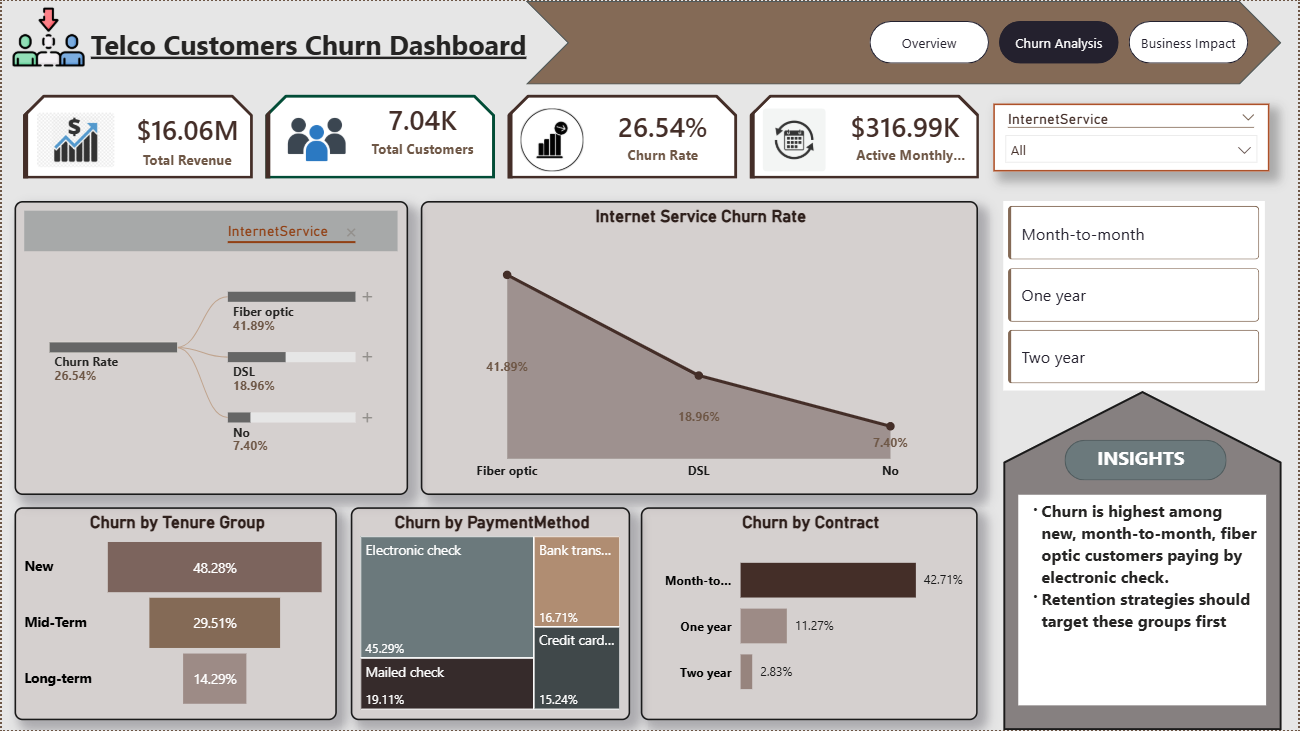

This screenshot's page, from the dashboard's own definition file:
{"tool":"powerbi","page":{"name":"Churn Analysis","canvas":[1280,720],"ordinal":1},"visuals":[{"type":"cardVisual","fields":{"Data":["fact_subscriptions.Total Revenue","fact_subscriptions.Total Customers","fact_subscriptions.Churn Rate","fact_subscriptions.Active Monthly Revenue"]},"box":[0,72.1,989.3,126],"z":0},{"type":"textbox","box":[82.5,20,460,52.5],"z":1000},{"type":"image","box":[0,0,91.2,71.2],"z":2000},{"type":"shape","box":[517.5,0,746.2,82.5],"z":3000},{"type":"stackedAreaChart","title":"Internet Service Churn Rate","fields":{"Y":["fact_subscriptions.Churn Rate"],"Category":["dim_services.InternetService"]},"box":[413.8,197.5,550,290],"z":4000},{"type":"barChart","title":"Churn by Contract","fields":{"Category":["dim_contract.Contract"],"Y":["fact_subscriptions.Churn Rate"]},"box":[631.2,500,332.5,210],"z":5000},{"type":"decompositionTreeVisual","title":"Customers Behaviour","fields":{"ExplainBy":["dim_services.InternetService","fact_subscriptions.Tenure Group","dim_contract.Contract"],"Analyze":["fact_subscriptions.Churn Rate"]},"box":[12.5,197.5,388.8,290],"z":6000},{"type":"advancedSlicerVisual","fields":{"Values":["dim_contract.Contract"]},"box":[988.8,197.5,258.8,187.5],"z":7000},{"type":"slicer","fields":{"Values":["dim_services.InternetService"]},"box":[978.8,101.2,272.5,67.5],"z":8000},{"type":"shape","box":[988.8,385,275,335],"z":9000},{"type":"treemap","title":"Churn by PaymentMethod","fields":{"Group":["dim_contract.PaymentMethod"],"Values":["fact_subscriptions.Churn Rate"]},"box":[345,500,276.2,210],"z":10000},{"type":"funnel","title":"Churn by Tenure Group","fields":{"Category":["fact_subscriptions.Tenure Group"],"Y":["fact_subscriptions.Churn Rate"]},"box":[12.5,500,318.8,210],"z":11000},{"type":"pageNavigator","box":[857.2,19.6,374.2,42.8],"z":12000},{"type":"textbox","box":[1003.9,487.9,244.6,207.9],"z":13000},{"type":"shape","box":[1049.2,432.9,160.2,40.4],"z":13001},{"type":"textbox","box":[1070,432.9,108.8,40.4],"z":13003}]}

Visuals, with their boxes in screenshot pixels (x1, y1, x2, y2), scaled from the page's 1280x720 canvas onto the 1300x731 screenshot:
cardVisual - fact_subscriptions.Total Revenue x fact_subscriptions.Total Customers: [x1=0, y1=73, x2=1005, y2=201]
textbox: [x1=84, y1=20, x2=551, y2=74]
image: [x1=0, y1=0, x2=93, y2=72]
shape: [x1=526, y1=0, x2=1283, y2=84]
"Internet Service Churn Rate" stackedAreaChart: [x1=420, y1=201, x2=979, y2=495]
"Churn by Contract" barChart: [x1=641, y1=508, x2=979, y2=721]
"Customers Behaviour" decompositionTreeVisual: [x1=13, y1=201, x2=408, y2=495]
advancedSlicerVisual - dim_contract.Contract: [x1=1004, y1=201, x2=1267, y2=391]
slicer - dim_services.InternetService: [x1=994, y1=103, x2=1271, y2=171]
shape: [x1=1004, y1=391, x2=1284, y2=730]
"Churn by PaymentMethod" treemap: [x1=350, y1=508, x2=631, y2=721]
"Churn by Tenure Group" funnel: [x1=13, y1=508, x2=336, y2=721]
pageNavigator: [x1=871, y1=20, x2=1251, y2=63]
textbox: [x1=1020, y1=495, x2=1268, y2=706]
shape: [x1=1066, y1=440, x2=1228, y2=481]
textbox: [x1=1087, y1=440, x2=1197, y2=481]
